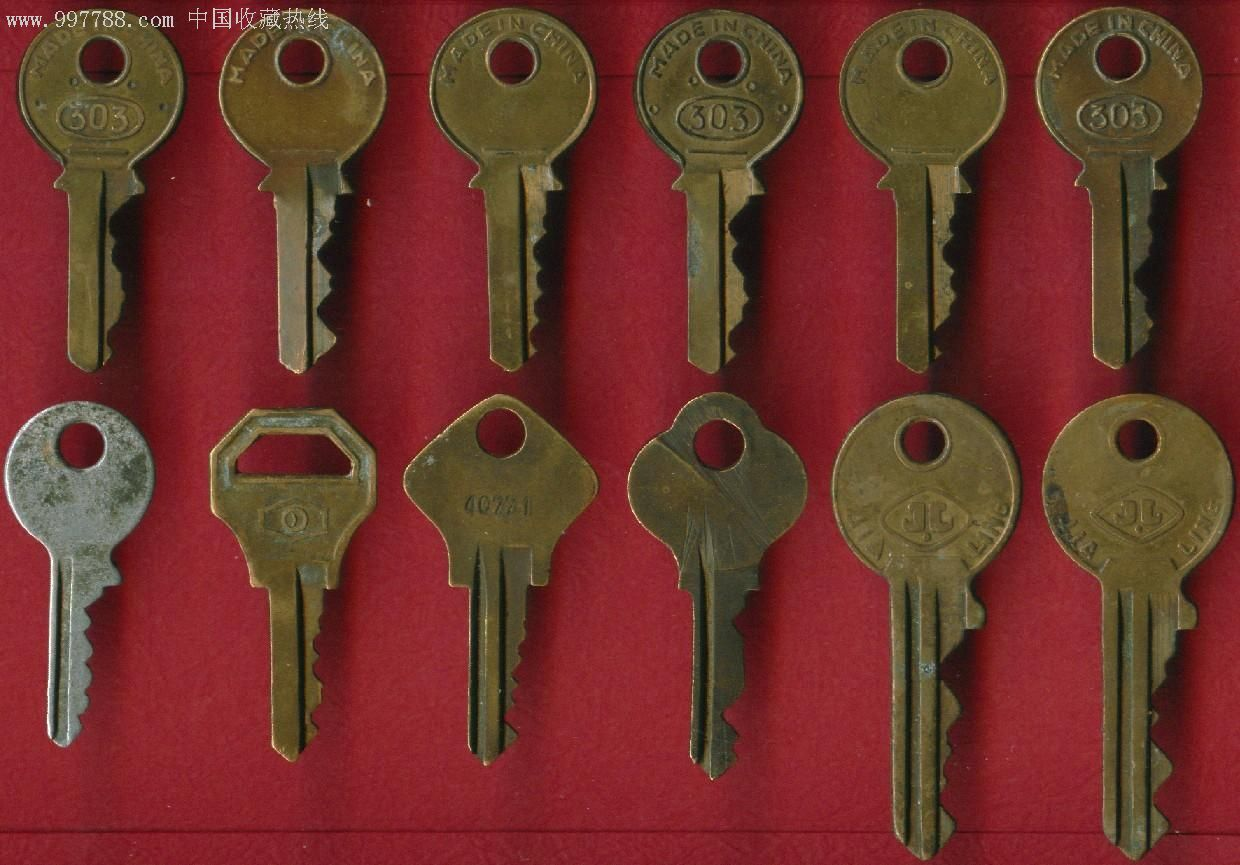key: (1043, 395, 1238, 856), (837, 393, 1024, 852), (206, 2, 401, 380), (409, 399, 602, 772), (191, 403, 388, 764), (629, 4, 814, 382), (627, 405, 816, 770), (839, 7, 1020, 382), (422, 9, 604, 380), (1036, 4, 1209, 376), (8, 17, 183, 376), (8, 395, 153, 749)
